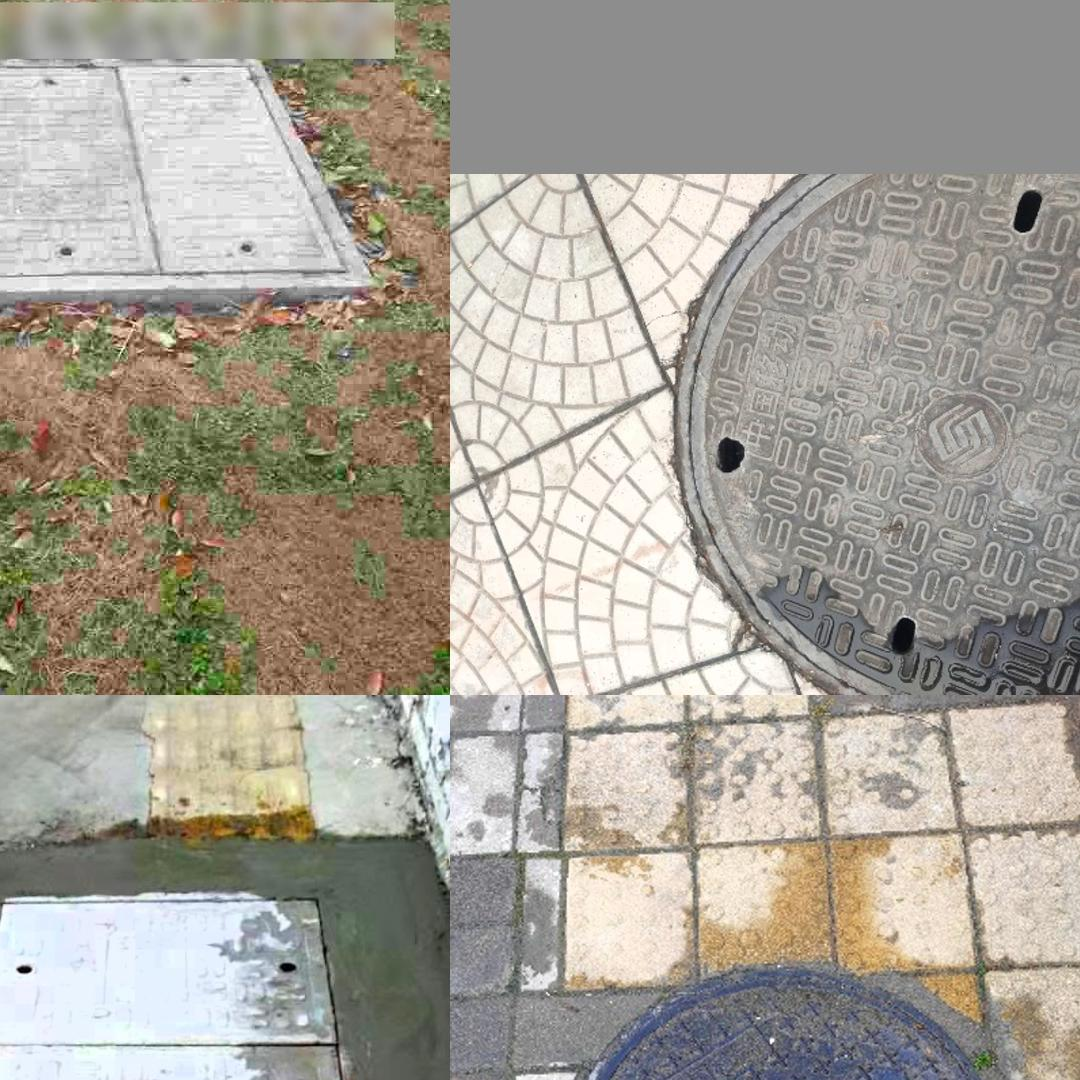good: (673, 175, 1080, 695), (0, 55, 378, 305), (0, 891, 373, 1080), (557, 970, 1009, 1080)
